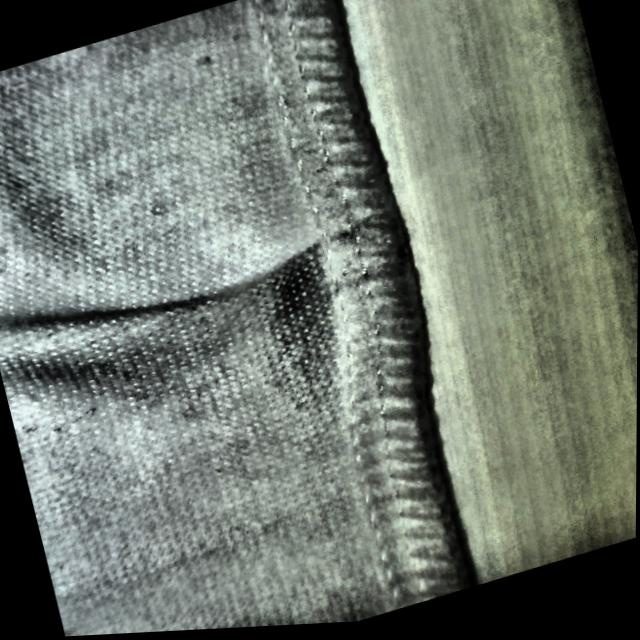seam: (98, 159, 440, 400)
